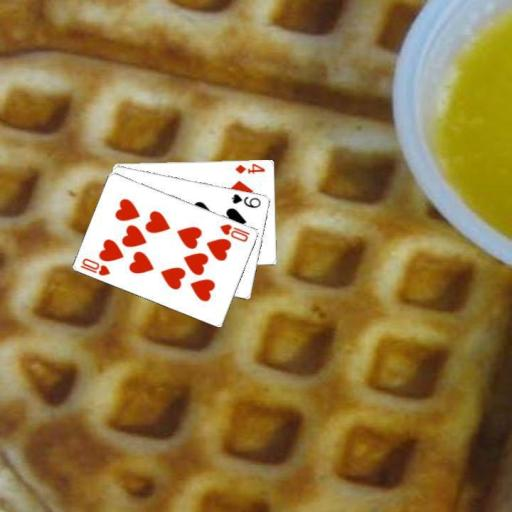card-corner: (217, 220, 251, 244), (78, 254, 112, 278), (228, 191, 262, 209), (232, 160, 266, 175)
